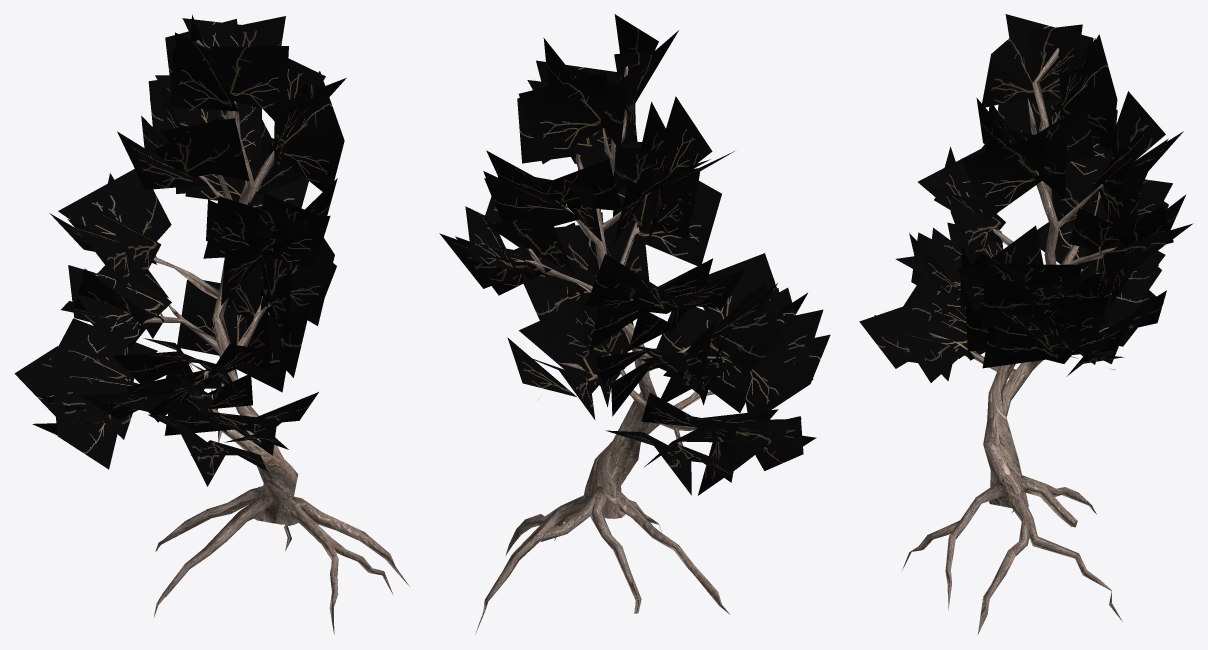
The model's file is deadtree.glb.
3 views of the same model, side by side, from view 1: azimuth 30°, elevation 25°; view 2: azimuth 150°, elevation 25°; view 3: azimuth 270°, elevation 25° (orthographic). The views are drawn at different scales.
Visible parts, largest first — view 1: m; view 2: m; view 3: m.
Part boxes in pixels (x1,y1,x2,y2): m: (14, 14, 409, 634); m: (439, 14, 830, 633); m: (859, 14, 1193, 634).
Bounding box in the file's own units: 5.43 × 9 × 5.
Materials: 3 (3 with a texture image).
